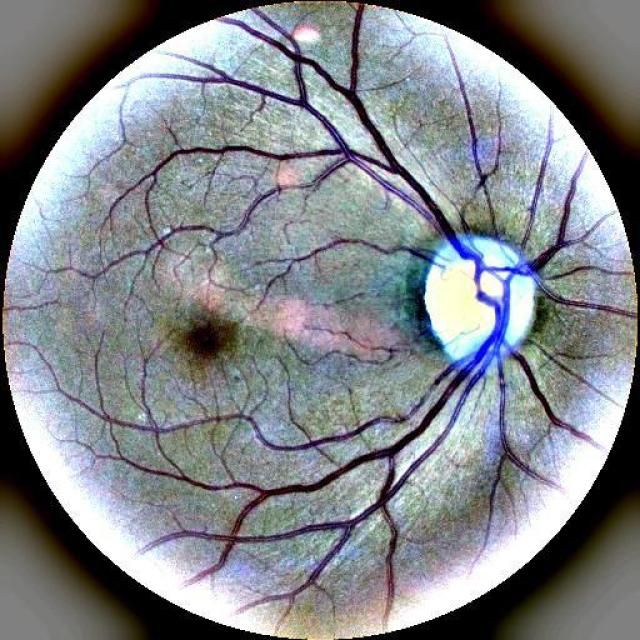Macula: (164, 304, 239, 364)
Nerves: (143, 77, 471, 270), (327, 258, 514, 512), (504, 152, 583, 280)
Optic Disk: (424, 235, 539, 371)
